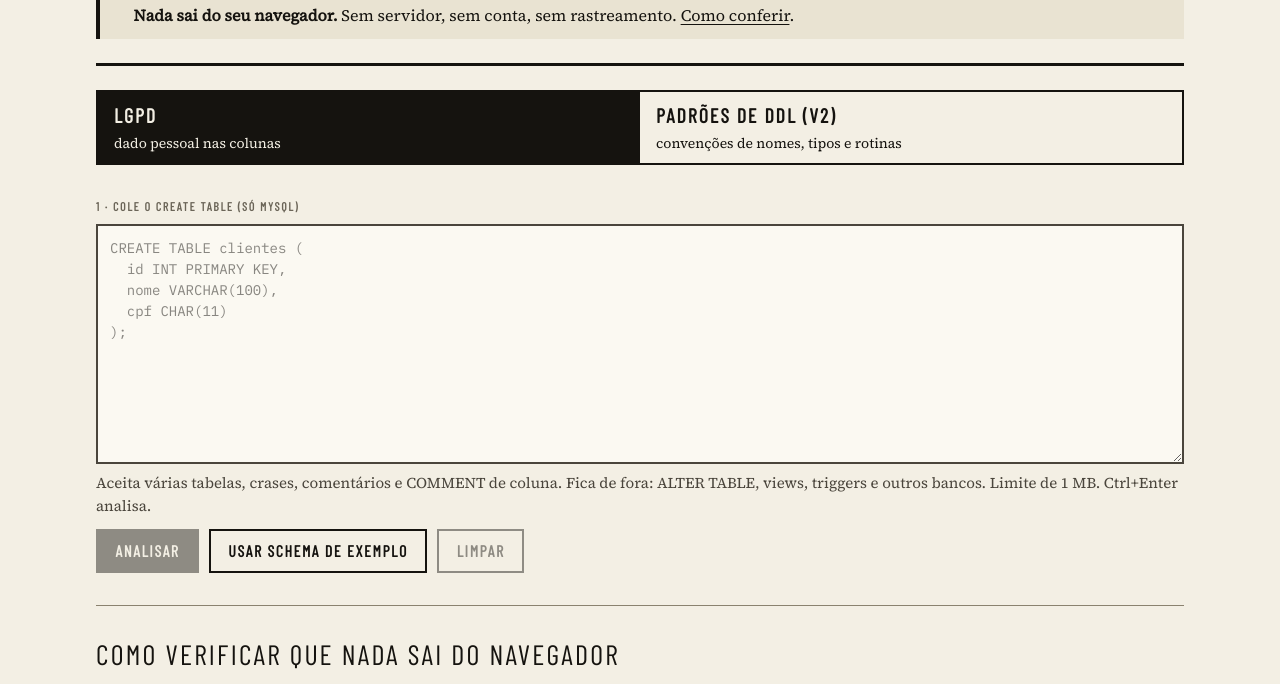
Test: interface: entrada, limite e erro › erro de sintaxe mostra o trecho e analisa o que deu
The width and height of the screenshot is (1280, 684).
(page scrolled)
Replace the text in the text box with "CREATE TABLE clientes (id INT, quebrada, cpf CHAR(11));" at (640, 344), box [96,224,1184,464]
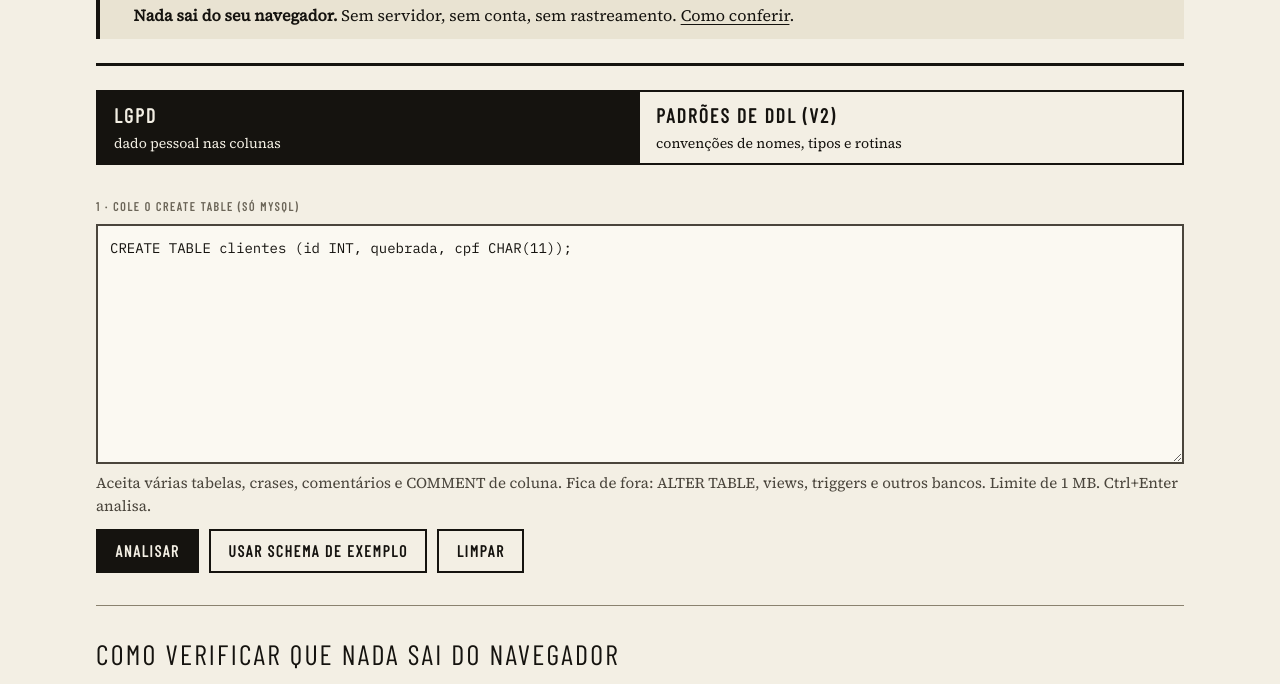
Click the button "Analisar" at (148, 551), box [96,529,199,573]
(page scrolled)
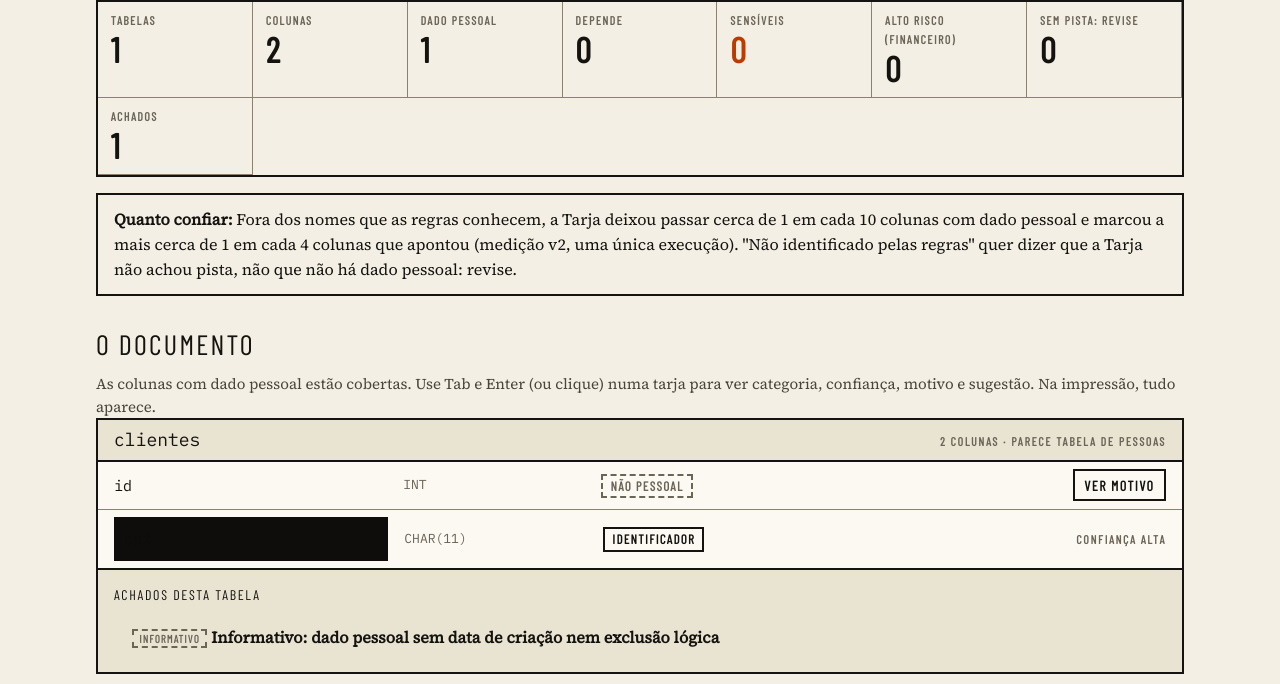
Now the heading "O documento" is shown, box [96,327,255,361]
